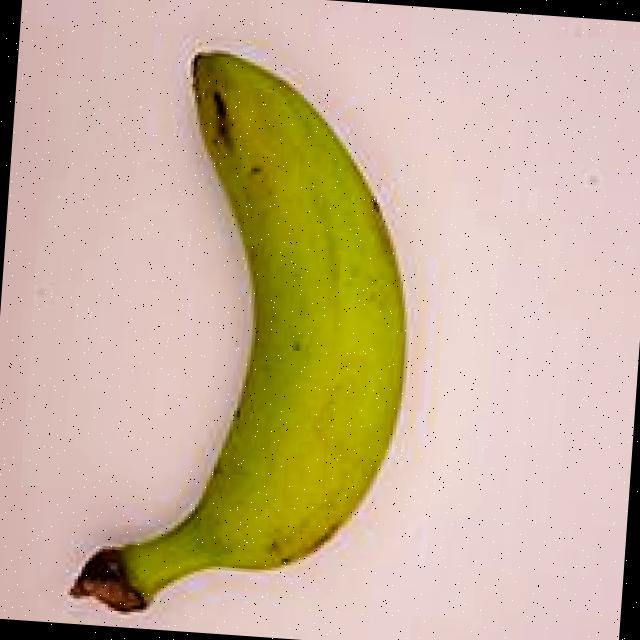Unripe: (7, 9, 484, 640)
